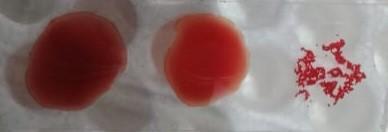D: (292, 28, 363, 113)
